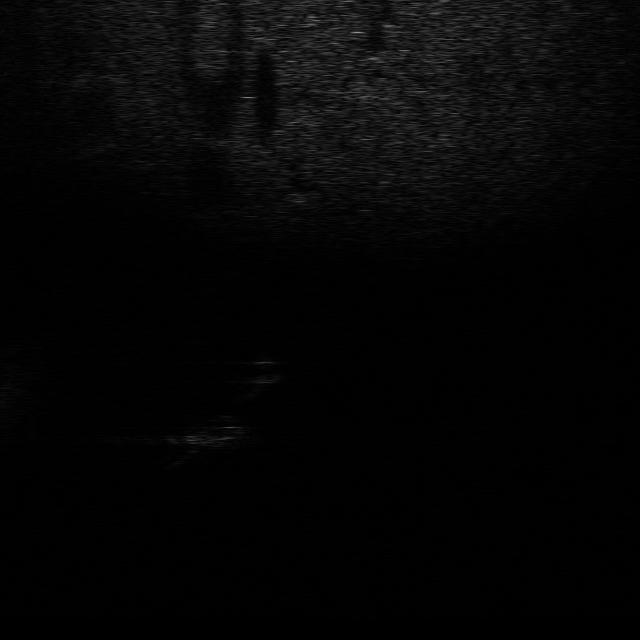ball: (239, 352, 291, 386)
square cage: (166, 434, 225, 463)
tyre: (191, 410, 251, 448)
